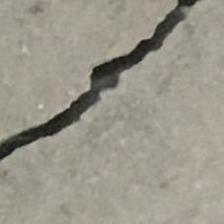Crack: (5, 0, 223, 181)
